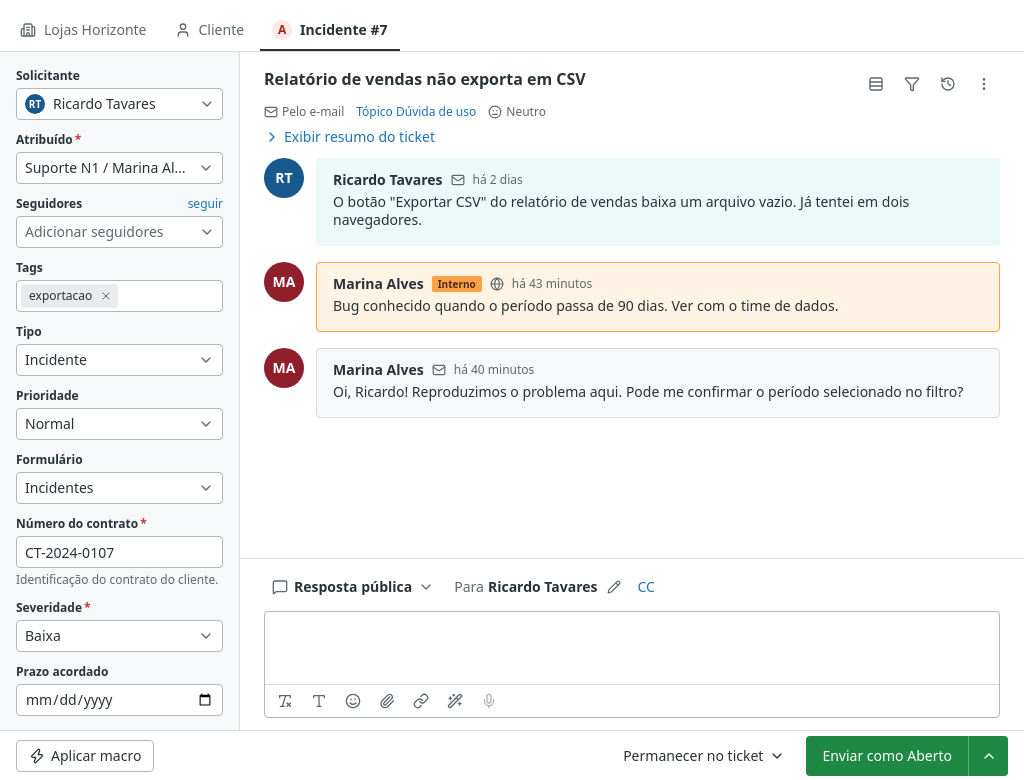
Scenario: Conversa e Composer › alternar para observação interna muda a cor, esconde Para/CC e persiste no store
Check: the text "Para" is shown, box top-left (454, 578), bottom-right (484, 596)
Check: the button "CC" is shown, box top-left (638, 578), bottom-right (655, 596)
Step 1. Click the button with aria-label "Modo de resposta" → coordinates (353, 587), box top-left (264, 571), bottom-right (442, 603)
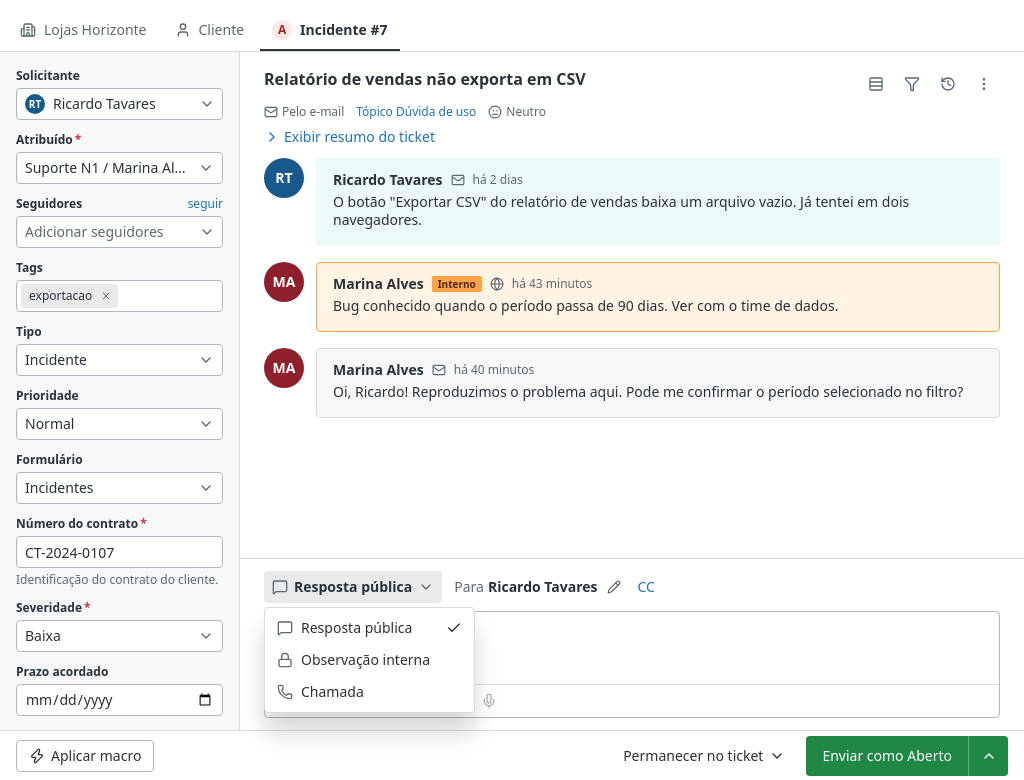
Step 2. Click the menu item "Observação interna" → coordinates (354, 660), box top-left (277, 650), bottom-right (430, 669)
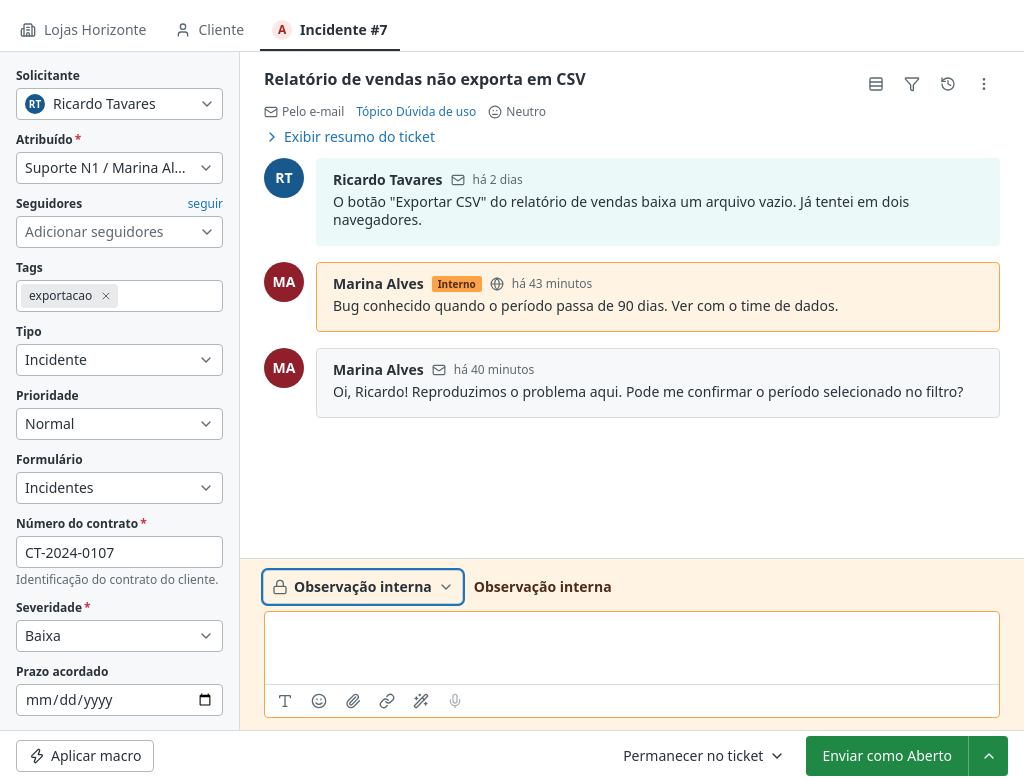
Check: the text "Para" is gone
Check: the button "CC" is gone
Check: the text "Observação interna" is shown, box top-left (474, 578), bottom-right (612, 596)
